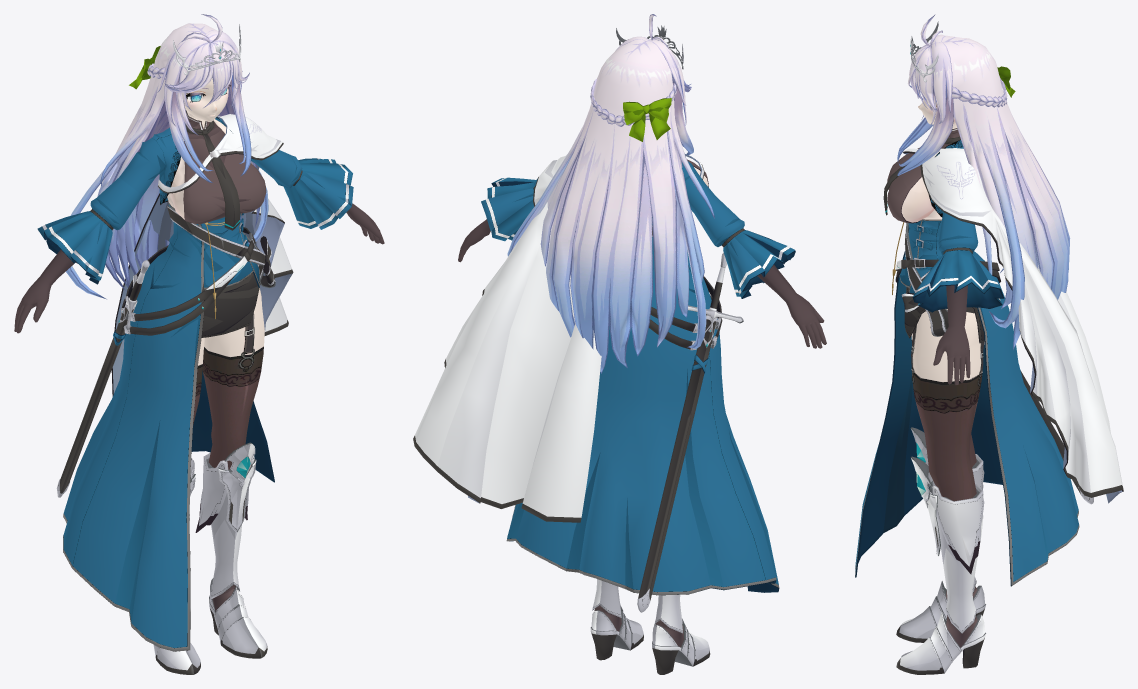
Rendered from anime_woman_model.glb.
3 renders of one model, left to right at view 1: azimuth 30°, elevation 25°; view 2: azimuth 150°, elevation 25°; view 3: azimuth 270°, elevation 25°, orthographic.
Parts seen in each view (by area): view 1: Object_2, Object_4, Object_3; view 2: Object_2, Object_4, Object_3; view 3: Object_2, Object_4, Object_3.
Boxes of the visible parts, x1,y1,x2,y2 form: Object_2: (56, 169, 275, 674); Object_4: (14, 24, 384, 396); Object_3: (66, 14, 268, 299); Object_2: (506, 167, 779, 674); Object_4: (413, 25, 826, 522); Object_3: (507, 14, 714, 373); Object_2: (855, 156, 1093, 674); Object_4: (900, 21, 1123, 503); Object_3: (897, 14, 1070, 349).
Size of the model in its own units: 96.35 by 160 by 61.7.
3 materials, 3 textured.
